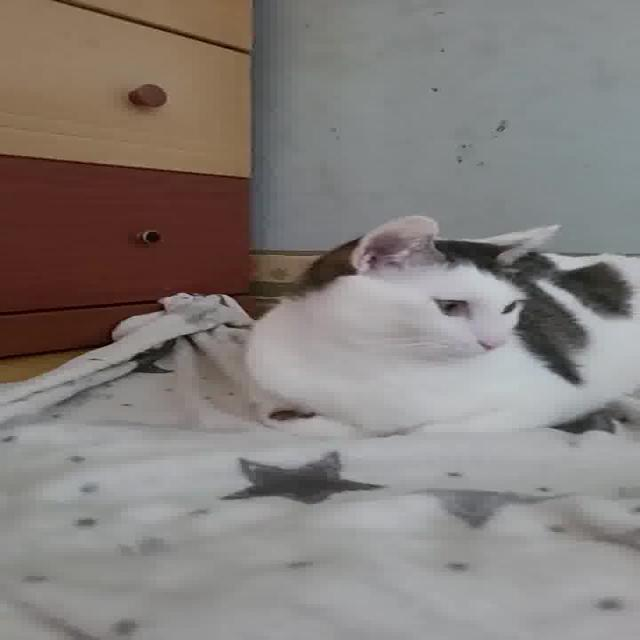cat: (247, 209, 640, 438)
